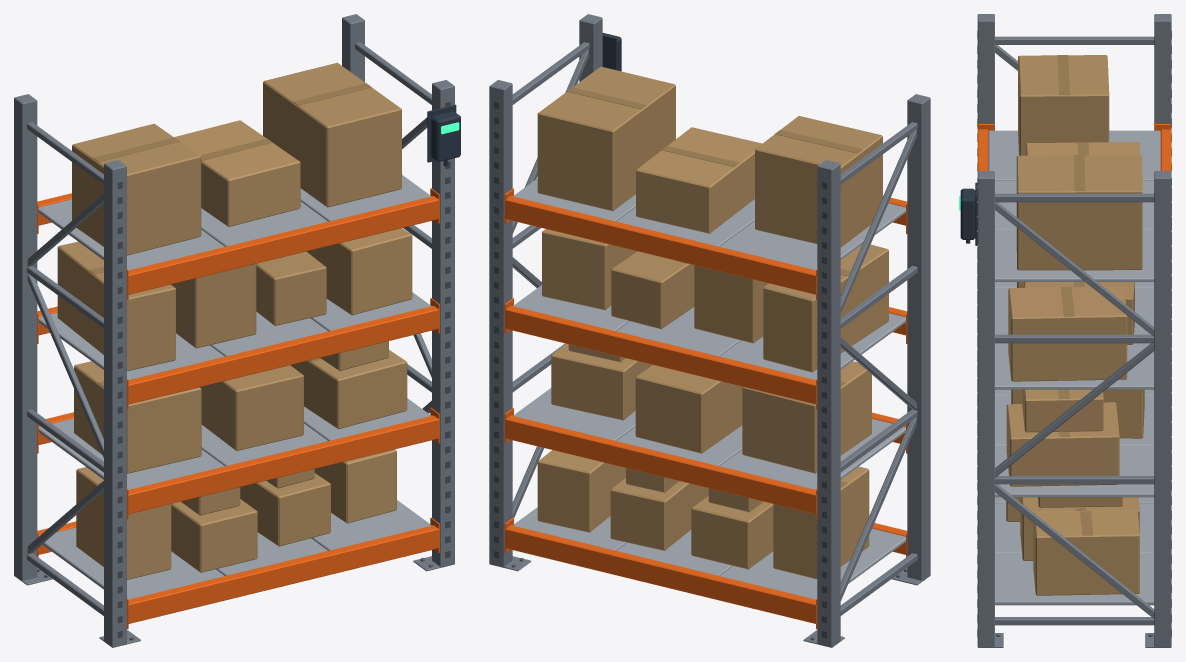
File: rack-4l.glb
3 renders of one model, left to right at view 1: azimuth 30°, elevation 25°; view 2: azimuth 150°, elevation 25°; view 3: azimuth 270°, elevation 25°, orthographic.
Parts seen in each view (by area): view 1: Cargo, Frame_Structure, Shelf_04_Beams, Shelf_02_Beams, Shelf_01_Beams, Shelf_03_Beams, Shelf_01_Deck, Shelf_04_Deck, Shelf_02_Deck, Shelf_03_Deck, SensorNode_Body; view 2: Cargo, Frame_Structure, Shelf_01_Beams, Shelf_03_Beams, Shelf_04_Beams, Shelf_02_Beams, Shelf_02_Deck, Shelf_01_Deck, Shelf_04_Deck, Shelf_03_Deck, SensorNode_Body; view 3: Cargo, Frame_Structure, Shelf_04_Deck, Shelf_01_Deck, Shelf_02_Deck, Shelf_03_Deck, Shelf_04_Beams, SensorNode_Body.
Part boxes in pixels (<box>): Cargo: <box>57,62,412,579</box>; Frame_Structure: <box>14,14,454,647</box>; Shelf_04_Beams: <box>37,188,439,299</box>; Shelf_02_Beams: <box>37,407,439,519</box>; Shelf_01_Beams: <box>37,517,439,629</box>; Shelf_03_Beams: <box>37,298,439,409</box>; Shelf_01_Deck: <box>42,500,431,599</box>; Shelf_04_Deck: <box>38,175,431,270</box>; Shelf_02_Deck: <box>38,398,431,489</box>; Shelf_03_Deck: <box>38,292,431,379</box>; SensorNode_Body: <box>427,104,460,166</box>; Cargo: <box>537,66,888,579</box>; Frame_Structure: <box>489,14,930,647</box>; Shelf_01_Beams: <box>504,517,907,629</box>; Shelf_03_Beams: <box>504,298,907,409</box>; Shelf_04_Beams: <box>504,188,907,299</box>; Shelf_02_Beams: <box>504,408,907,519</box>; Shelf_02_Deck: <box>513,388,905,489</box>; Shelf_01_Deck: <box>513,507,905,599</box>; Shelf_04_Deck: <box>513,178,905,270</box>; Shelf_03_Deck: <box>513,285,905,379</box>; SensorNode_Body: <box>602,33,621,71</box>; Cargo: <box>1006,55,1144,595</box>; Frame_Structure: <box>977,14,1171,647</box>; Shelf_04_Deck: <box>988,130,1160,281</box>; Shelf_01_Deck: <box>995,497,1154,605</box>; Shelf_02_Deck: <box>995,389,1154,497</box>; Shelf_03_Deck: <box>995,282,1154,389</box>; Shelf_04_Beams: <box>977,124,1171,171</box>; SensorNode_Body: <box>960,182,977,245</box>.
Size of the model in its own units: 1.8 by 2.4 by 0.984.
